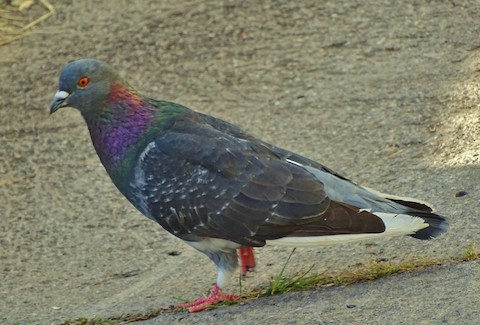pigeon: (44, 56, 455, 317)
